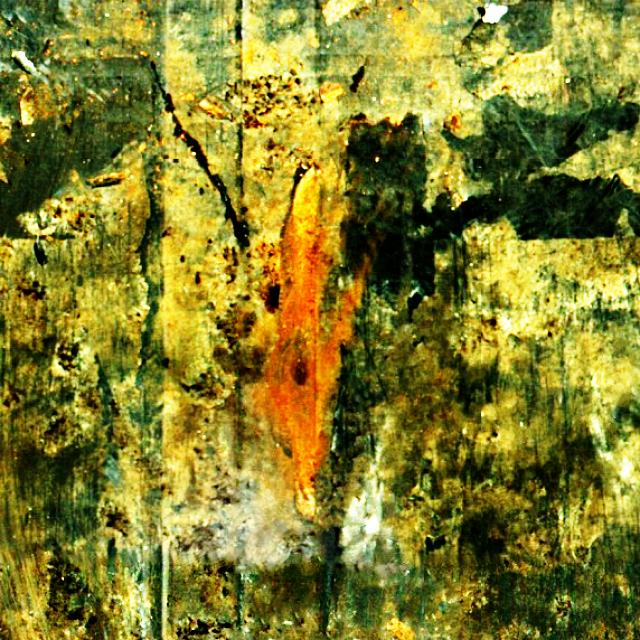Corrosion: (279, 165, 322, 345), (283, 413, 323, 524), (389, 618, 415, 640), (318, 83, 343, 102), (200, 101, 226, 117), (445, 114, 463, 133)
